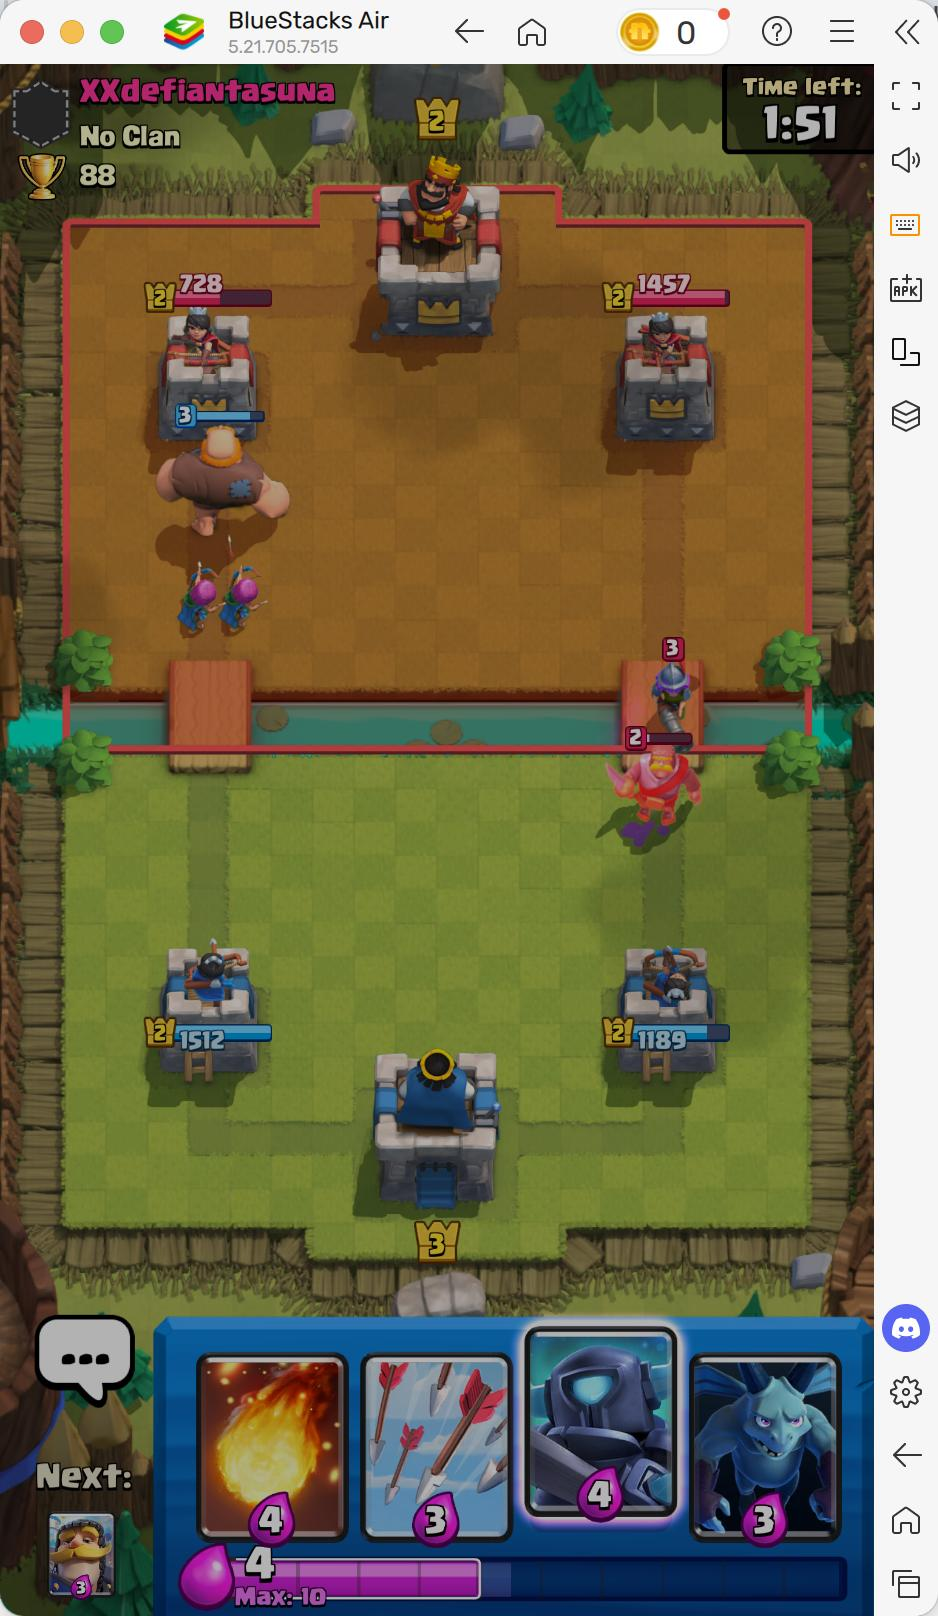1: (762, 102, 779, 143), (822, 104, 839, 143), (635, 268, 650, 296), (635, 1028, 648, 1052), (644, 1029, 657, 1052), (179, 1029, 190, 1052), (202, 1030, 212, 1052)
14: (161, 945, 258, 1076), (619, 948, 712, 1074)
2: (210, 1028, 228, 1051), (191, 272, 208, 295)
3: (421, 1502, 448, 1538), (752, 1503, 777, 1537), (75, 1577, 88, 1598)
4: (243, 1543, 277, 1584), (257, 1502, 287, 1539), (586, 1479, 614, 1511), (647, 272, 664, 296)
5: (794, 103, 822, 145), (186, 1028, 204, 1052), (662, 271, 677, 296)
9: (674, 270, 692, 296), (179, 272, 194, 294)
Battle: (654, 1029, 673, 1054), (207, 271, 223, 295)
Enemy Tower: (670, 1028, 689, 1052)
Friendly Winner: (613, 314, 717, 439), (154, 314, 256, 439)
